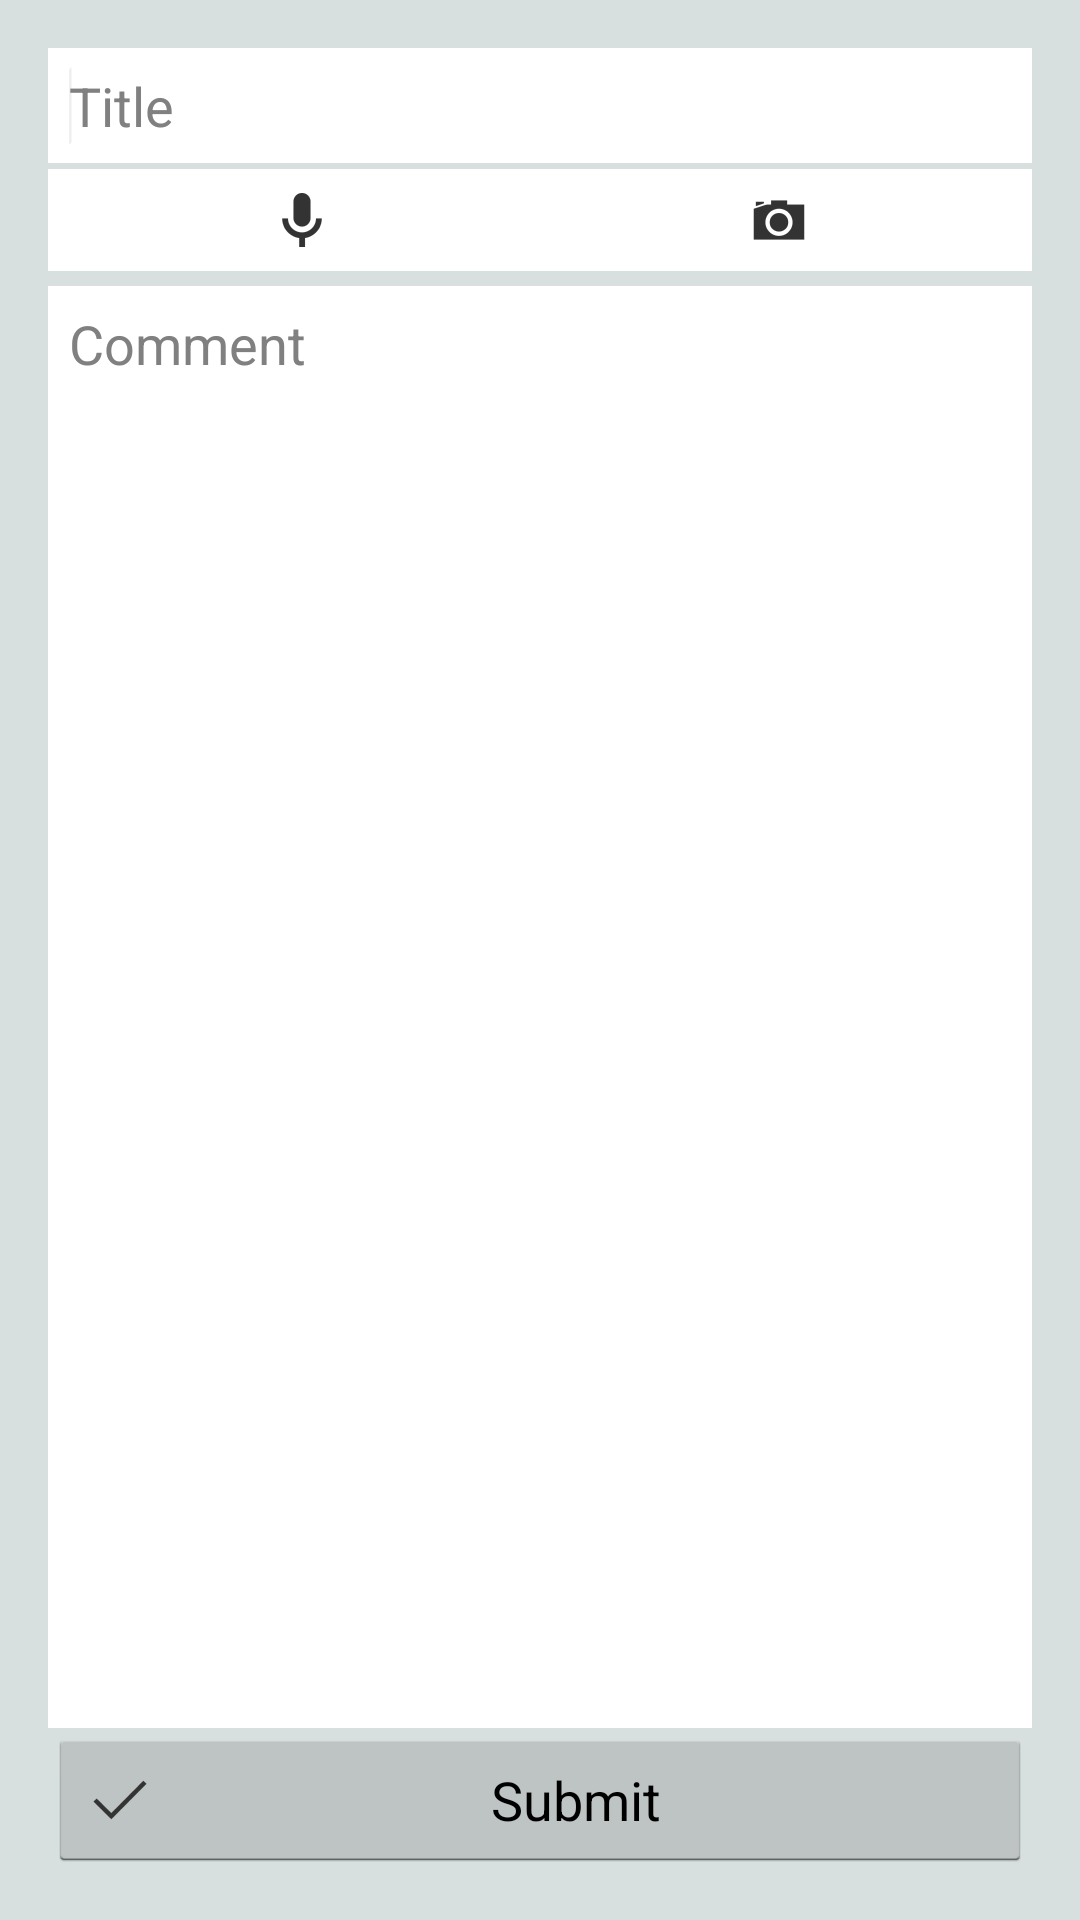

Where icons sit on this 1080 × 1920 app screen, as box=[x1, y1, x2, y2]:
Add image: box=[753, 200, 805, 240]
Add recording: box=[282, 193, 322, 247]
